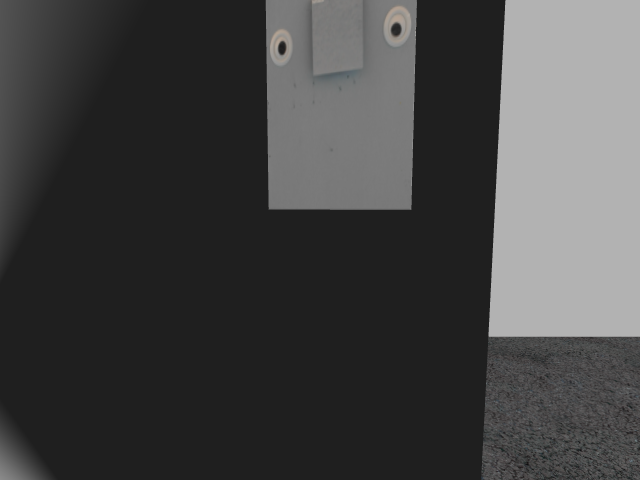facade: (270, 0, 413, 80)
